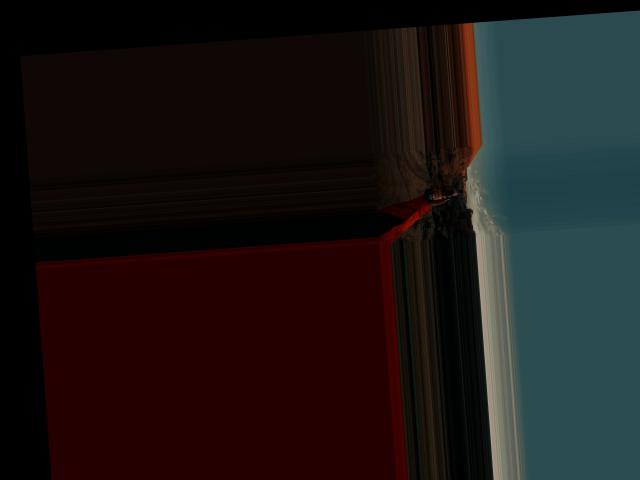beer: (425, 185, 463, 201)
